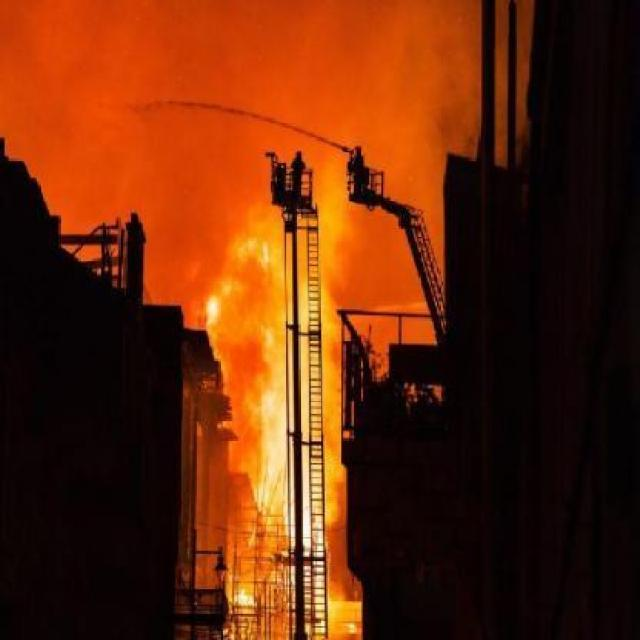Fire: (186, 143, 369, 640)
Smoke: (0, 0, 514, 242)
